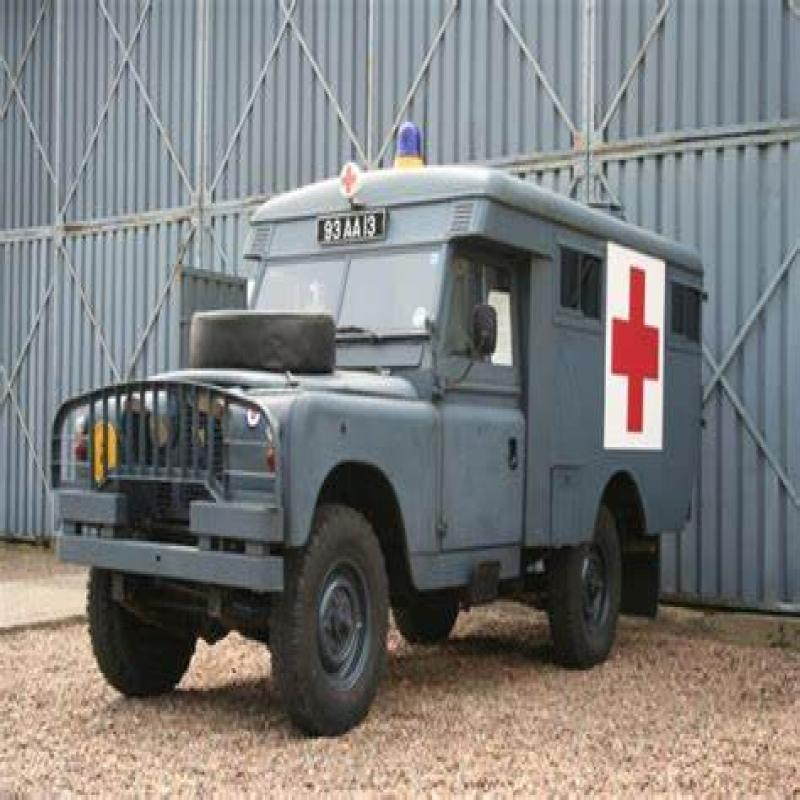AmbulanceSiren: (388, 112, 432, 166)
